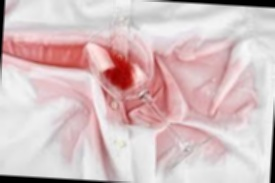wine: (151, 83, 247, 117), (4, 37, 94, 66), (167, 50, 222, 93)
